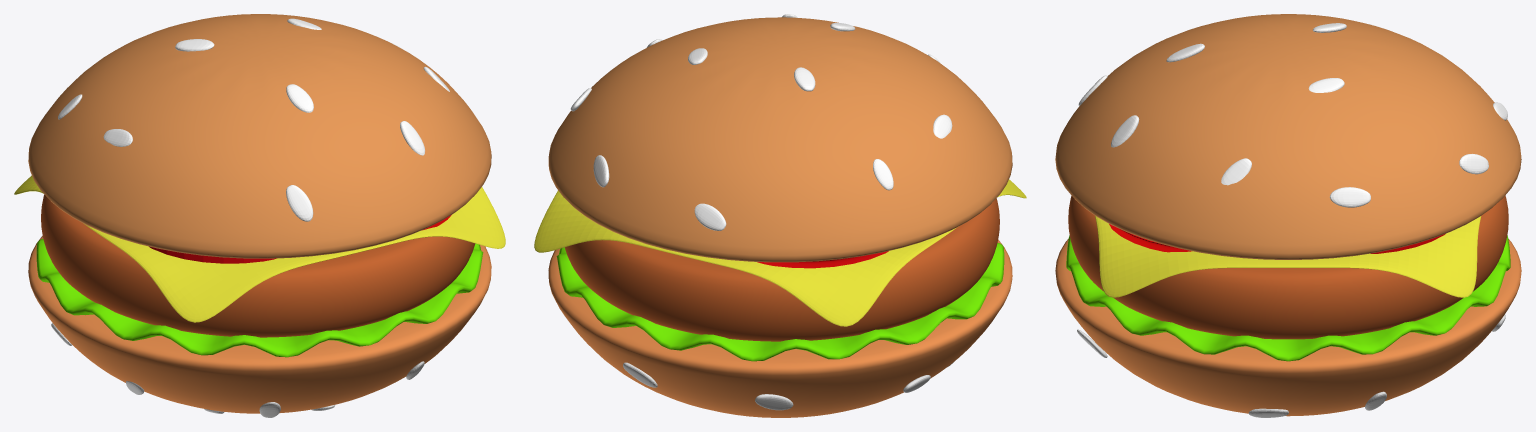
File: HAMBURGER.fbx
3 renders of one model, left to right at view 1: azimuth 30°, elevation 25°; view 2: azimuth 150°, elevation 25°; view 3: azimuth 270°, elevation 25°, orthographic.
Visible parts, largest first — view 1: Cylinder.003, Cylinder.002, Cylinder, Plane, Cylinder.001, Plane.001, Plane.002, Cylinder.008; view 2: Cylinder.003, Cylinder.002, Cylinder, Plane, Cylinder.001, Plane.001, Plane.002, Cylinder.005; view 3: Cylinder.003, Cylinder, Cylinder.002, Plane, Cylinder.001, Plane.001, Plane.002, Cylinder.006.
Boxes of the visible parts, left/top/right/bottom form: Cylinder.003: left=28, top=14, right=491, bottom=258; Cylinder.002: left=41, top=194, right=475, bottom=337; Cylinder: left=28, top=236, right=491, bottom=413; Plane: left=14, top=175, right=505, bottom=322; Cylinder.001: left=36, top=239, right=483, bottom=357; Plane.001: left=58, top=18, right=449, bottom=221; Plane.002: left=51, top=323, right=424, bottom=417; Cylinder.008: left=149, top=246, right=276, bottom=263; Cylinder.003: left=548, top=17, right=1012, bottom=262; Cylinder.002: left=565, top=198, right=999, bottom=341; Cylinder: left=548, top=239, right=1012, bottom=417; Plane: left=534, top=179, right=1026, bottom=326; Cylinder.001: left=556, top=243, right=1004, bottom=361; Plane.001: left=570, top=14, right=952, bottom=230; Plane.002: left=623, top=361, right=954, bottom=410; Cylinder.005: left=757, top=251, right=888, bottom=268; Cylinder.003: left=1055, top=14, right=1521, bottom=259; Cylinder: left=1055, top=239, right=1521, bottom=416; Cylinder.002: left=1068, top=195, right=1508, bottom=339; Plane: left=1095, top=216, right=1481, bottom=297; Cylinder.001: left=1066, top=235, right=1510, bottom=361; Plane.001: left=1078, top=23, right=1507, bottom=207; Plane.002: left=1077, top=314, right=1505, bottom=417; Cylinder.006: left=1109, top=224, right=1191, bottom=252.
Size of the model in its own units: 197 by 160 by 197.
